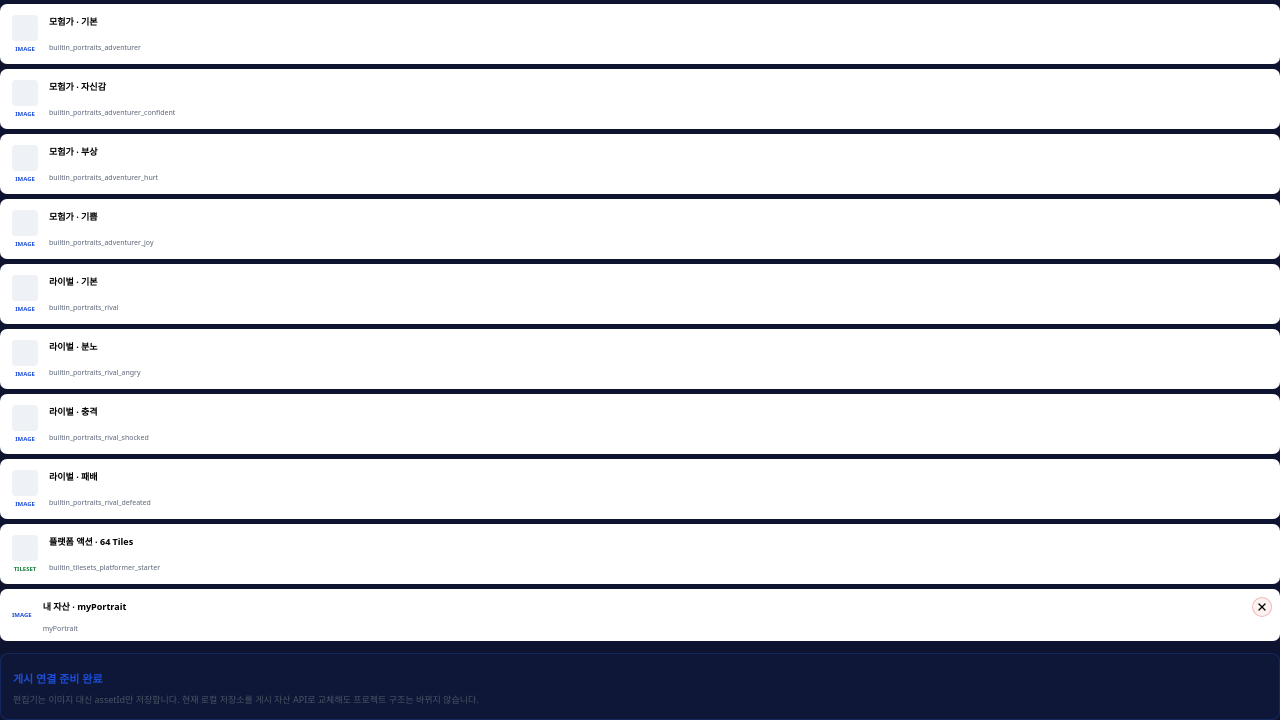
Test: ProjectDataPanel — 자산 삭제(S15P21A604-561) › 사용 중인 자산은 삭제 전에 사용 위치를 보여준다
(page scrolled)
Click the button named "내 자산 · myPortrait 삭제".
click(1262, 607)  # box x1=1252 y1=597 x2=1272 y2=617
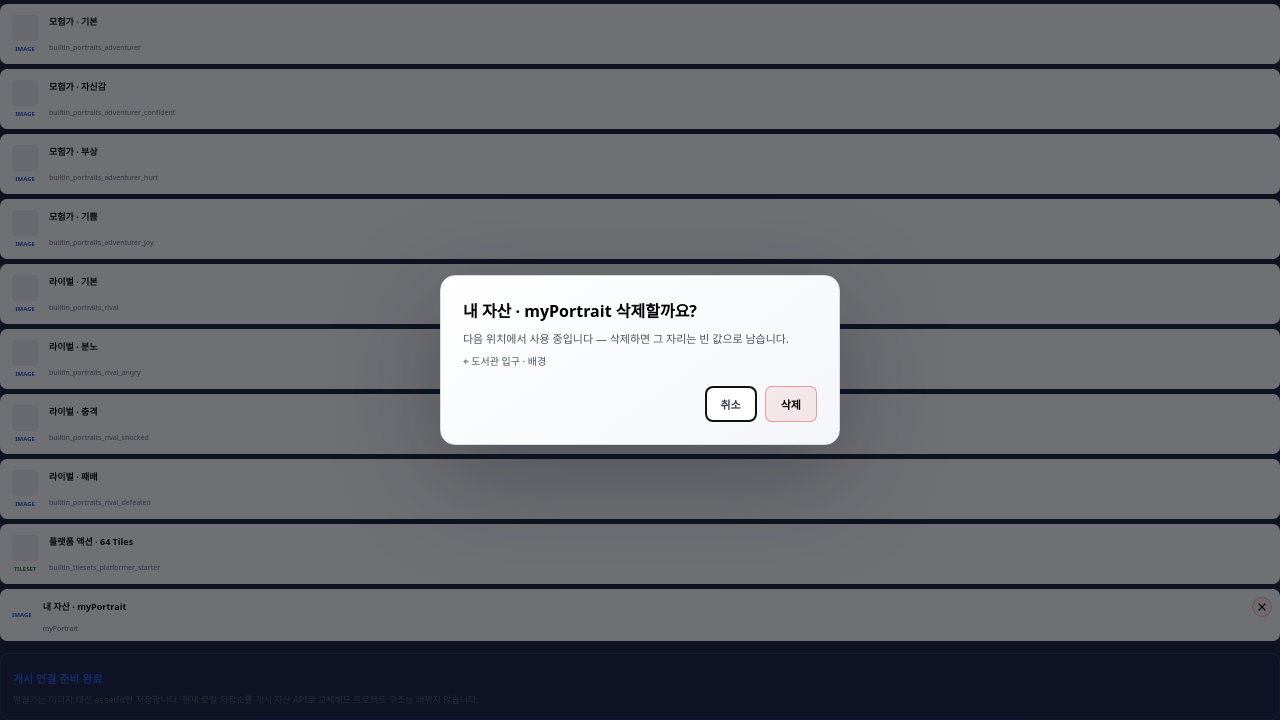
Check: the text "다음 위치에서 사용 중입니다 — 삭제하면 그 자리는 빈 값으로 남습니다." is shown, box x1=463 y1=330 x2=817 y2=348
Check: the text "⌖ 도서관 입구 · 배경" is shown, box x1=463 y1=354 x2=546 y2=368
